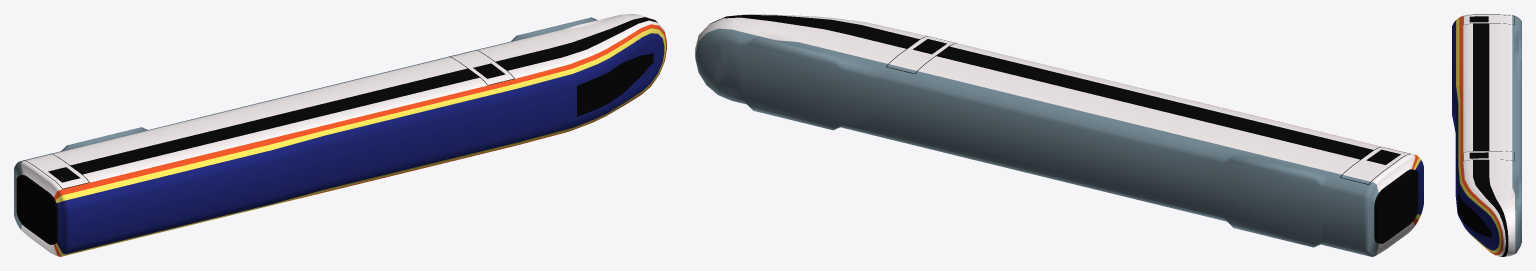
File: passenger-emu-front.glb
The picture shows the model from 3 angles, left to right: view 1: azimuth 30°, elevation 25°; view 2: azimuth 150°, elevation 25°; view 3: azimuth 270°, elevation 25°; orthographic projection. The views are drawn at different scales.
Visible parts, largest first — view 1: Plane; view 2: Plane; view 3: Plane.
Part boxes in pixels (<box>): Plane: <box>14,14,666,256</box>; Plane: <box>695,14,1423,256</box>; Plane: <box>1452,14,1521,256</box>.
Size of the model in its own units: 28 by 3 by 4.
Materials: 3 (2 with a texture image).
